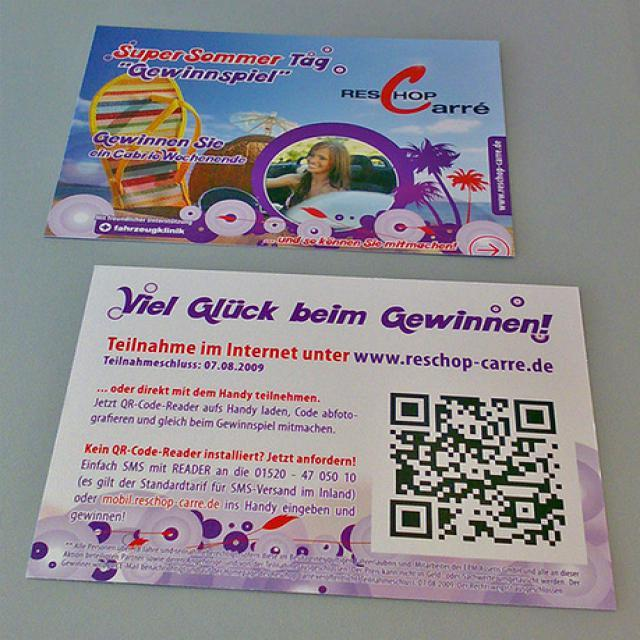qrcode: (391, 394, 566, 548)
